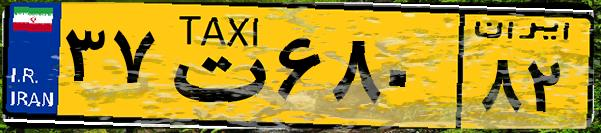0: (385, 28, 445, 110)
2: (525, 38, 570, 115)
3: (57, 26, 110, 100)
6: (270, 28, 330, 110)
7: (110, 28, 158, 98)
8: (330, 28, 385, 110), (475, 38, 525, 113)
ت: (158, 12, 270, 120)
